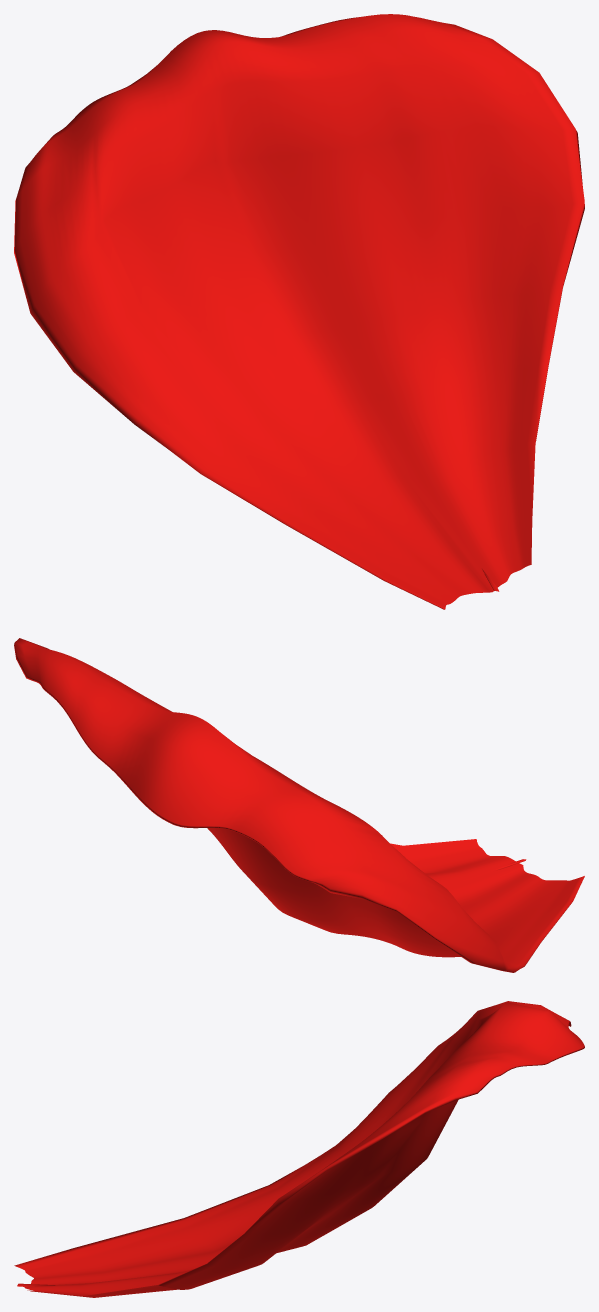
Rendered from Rose_Piece.fbx.
3 renders of one model, top to bottom at view 1: azimuth 30°, elevation 25°; view 2: azimuth 150°, elevation 25°; view 3: azimuth 270°, elevation 25°, orthographic. The views are drawn at different scales.
Parts seen in each view (by area): view 1: ruža.001; view 2: ruža.001; view 3: ruža.001.
Part boxes in pixels (x1,y1,x2,y2): ruža.001: (14,14,584,609); ruža.001: (14,638,584,972); ruža.001: (14,1001,584,1297).
Bounding box in the file's own units: 16.61 × 11.57 × 20.42.
